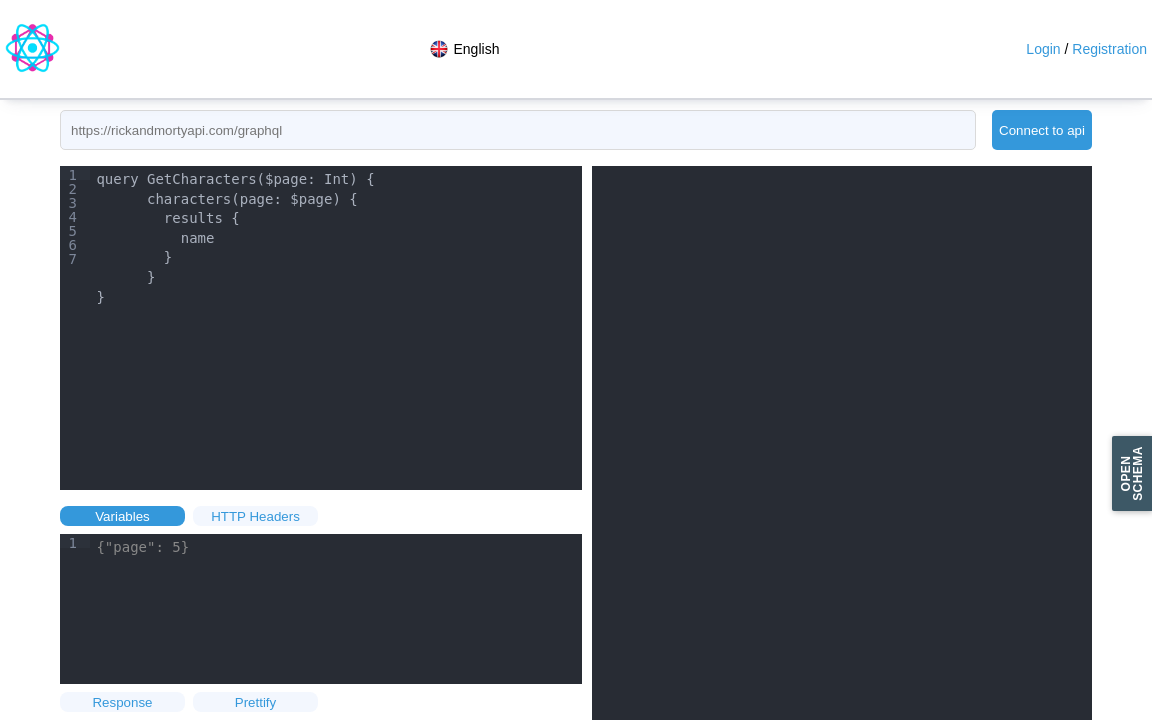
Scenario: GraphQL page › renders headers editor
The width and height of the screenshot is (1152, 720).
Click the button "HTTP Headers".
click(256, 516)  # box [193,506,318,526]
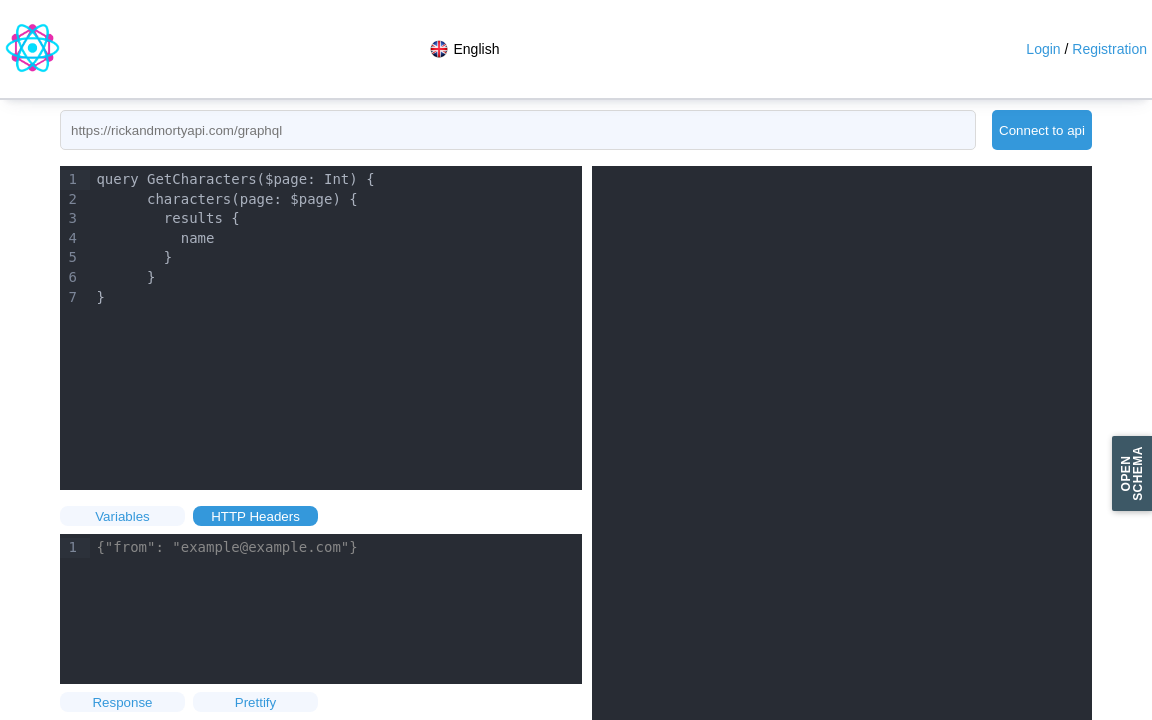
Result: the element showing "1 {\"from\": \"example@example.com\"}" is shown at [60,534,582,684]
